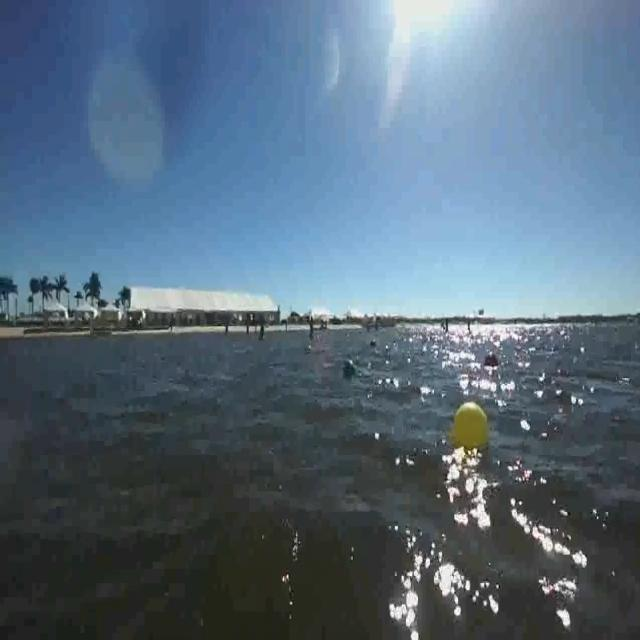yellow-buoy: (449, 400, 488, 453)
